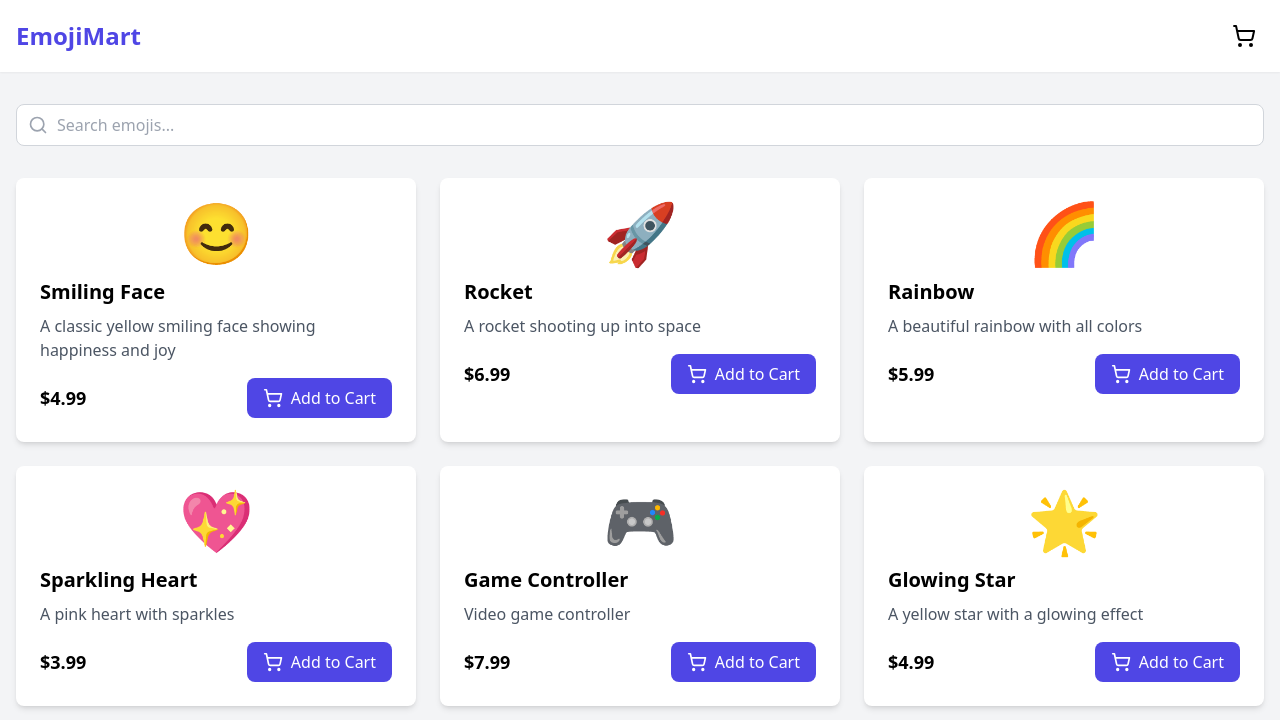
Emoji Mart App › should add an emoji to the cart
Click the text "😊": (216, 232) [40,202,392,262]
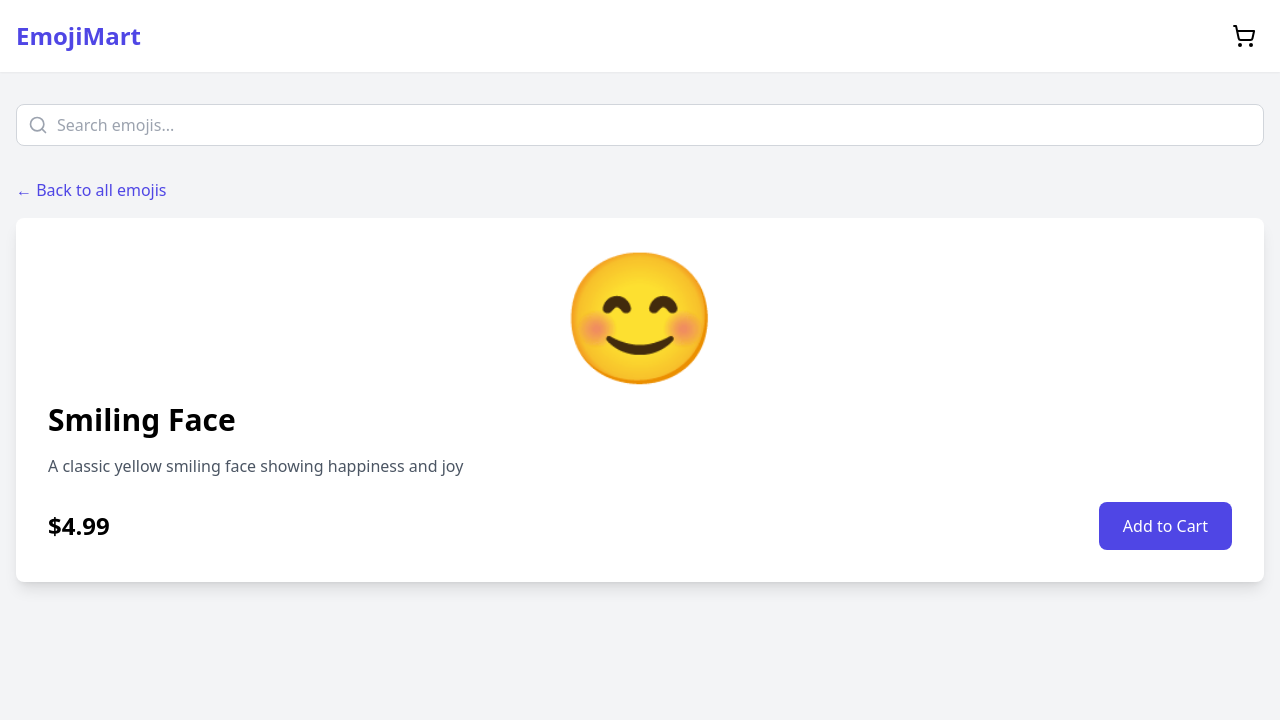
Click the button "Add to Cart": (1166, 526) [1099,502,1232,550]
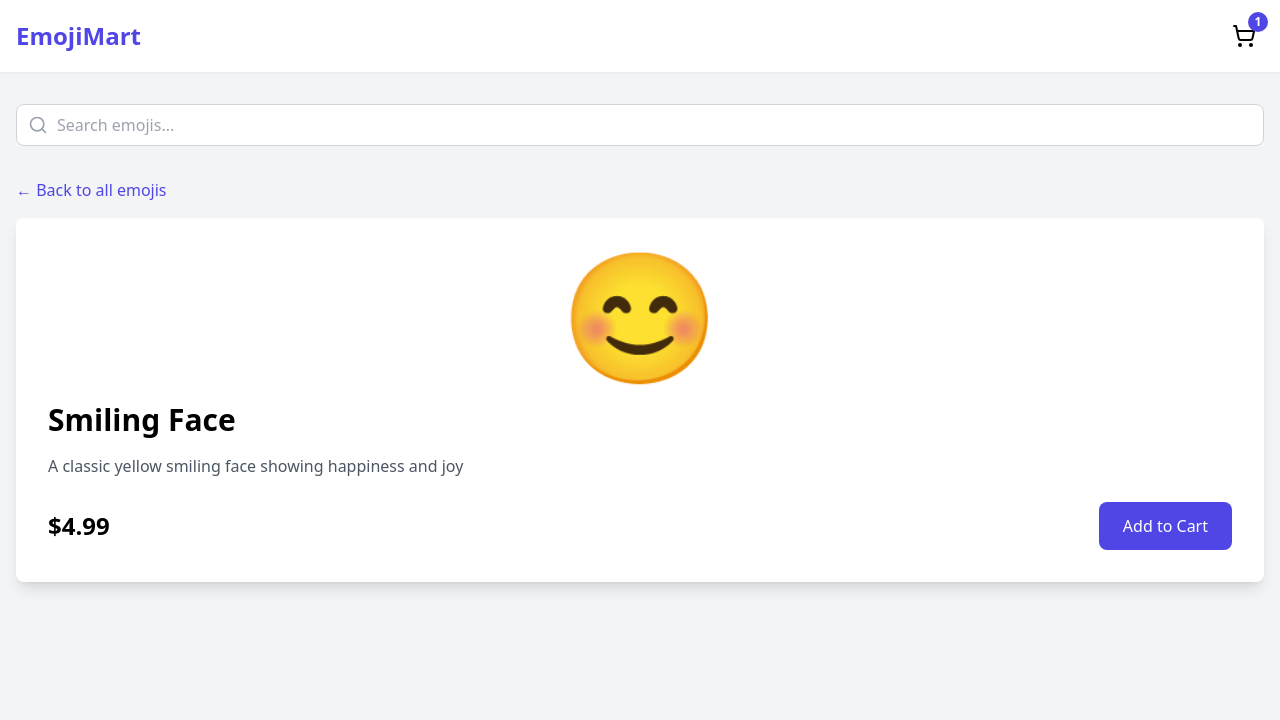
Click the icon with class "lucide-shopping-cart": (1244, 36) [1232,24,1256,48]
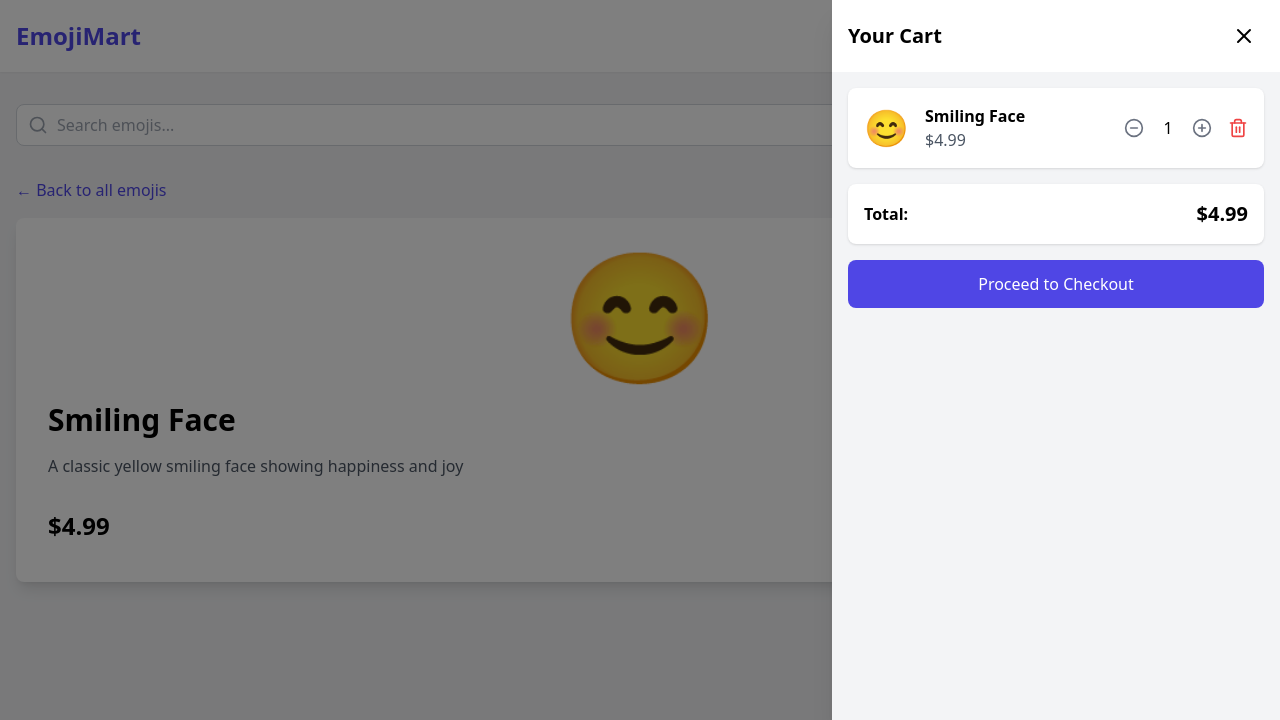
Expected: the text "😊" is shown, [864,108,909,148]
